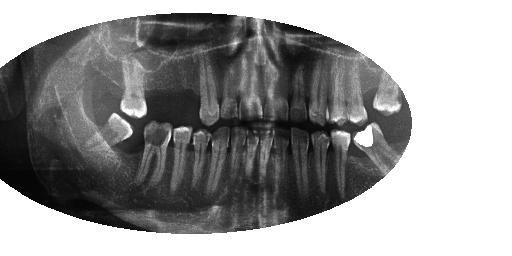Cavity: (142, 120, 172, 183), (259, 131, 272, 178), (247, 132, 258, 179)
Fillings: (354, 122, 400, 174)
Impacted Tooth: (353, 122, 402, 174), (88, 113, 133, 155)
